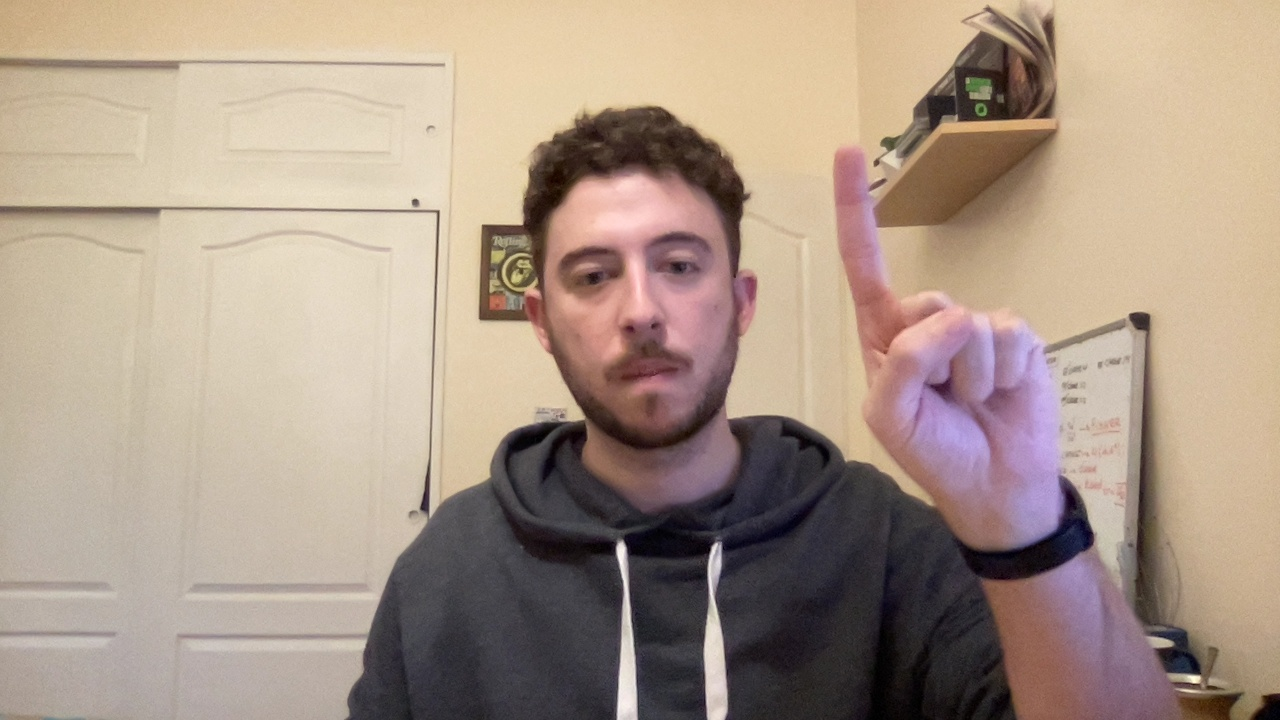indice: (785, 129, 1109, 550)
